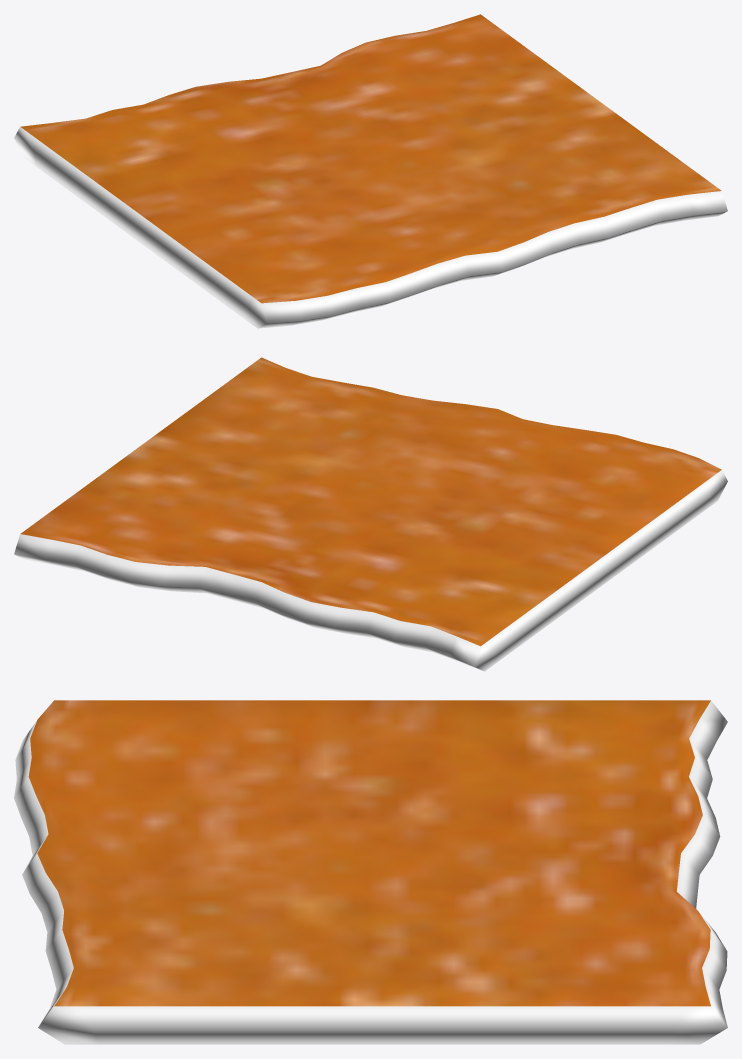
The model's file is TangerinePeel.fbx.
3 renders of one model, top to bottom at view 1: azimuth 30°, elevation 25°; view 2: azimuth 150°, elevation 25°; view 3: azimuth 270°, elevation 25°, orthographic. The views are drawn at different scales.
Parts seen in each view (by area): view 1: Cube; view 2: Cube; view 3: Cube.
Boxes of the visible parts, x1,y1,x2,y2 form: Cube: (14,14,727,328); Cube: (14,357,727,671); Cube: (14,700,727,1044).
Bounding box in the file's own units: 1119 × 65.32 × 1104.
Materials: 2 (1 with a texture image).
